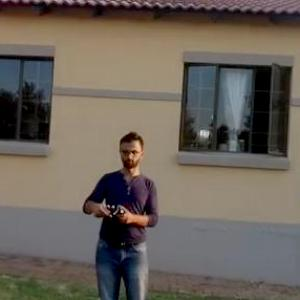follow: (76, 123, 166, 299)
